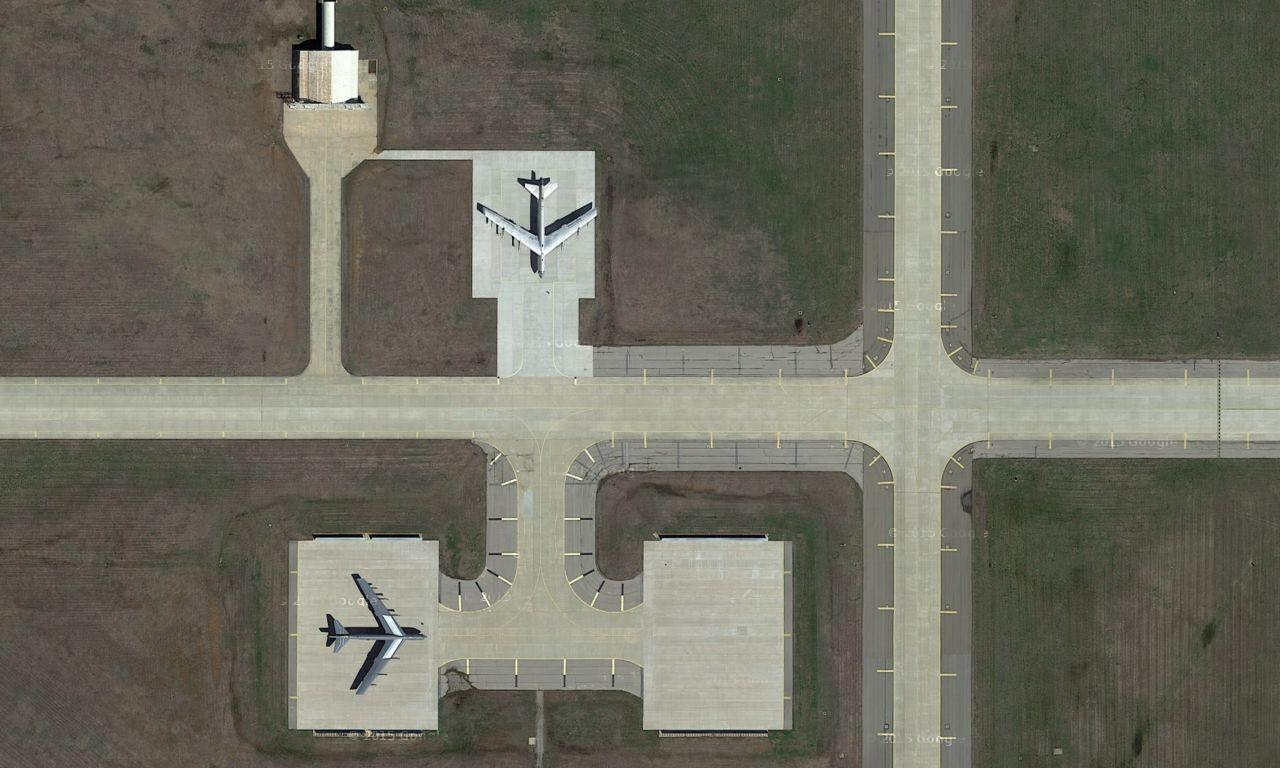B-52: (473, 169, 603, 281), (319, 573, 427, 697)
